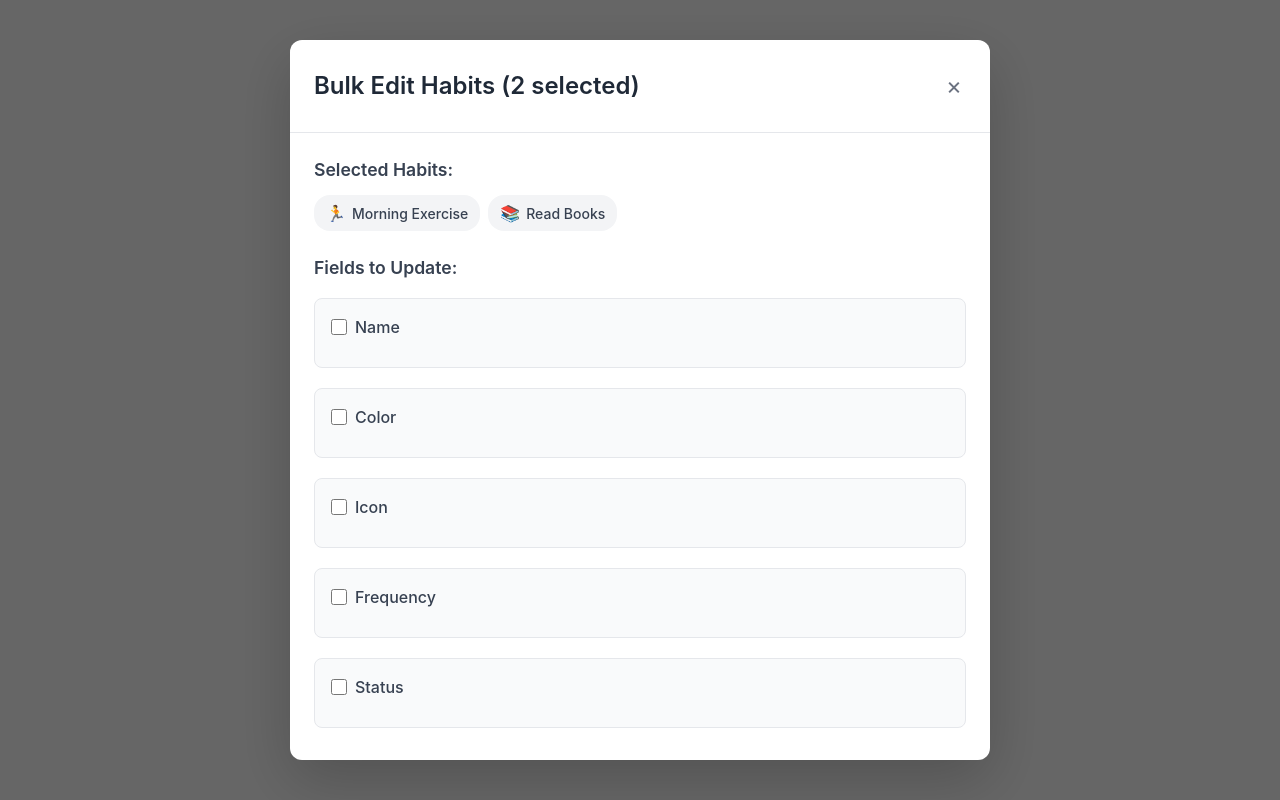
Test: BulkEditModal › shows confirmation dialog before applying changes
This screenshot has width=1280, height=800.
Select name field and enter value
Step 1. Click the checkbox labelled "Name" → (339, 327), box [331, 319, 347, 335]
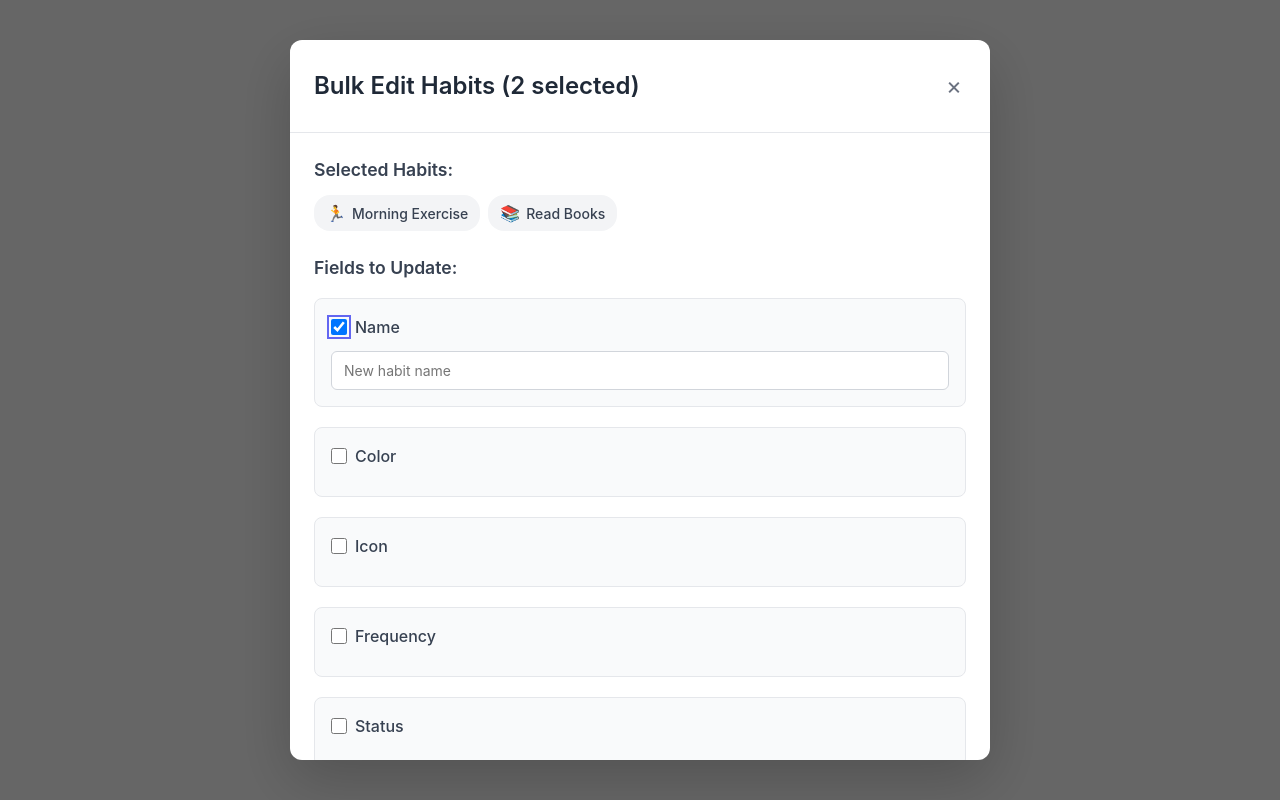
Step 2. Type "Updated Habit" into the field with placeholder "New habit name" → (640, 370), box [331, 351, 949, 390]
(page scrolled)
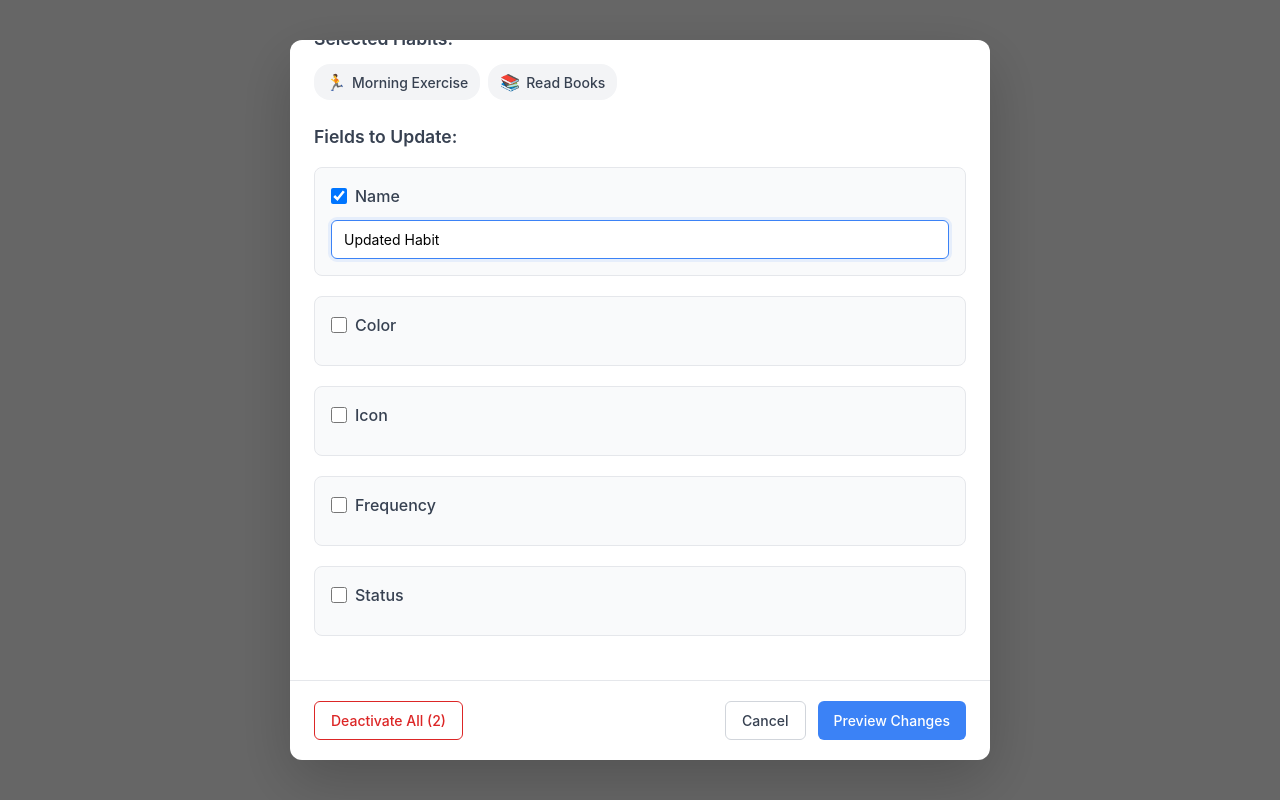
Click preview
Step 3. Click the button "Preview Changes" → (892, 720), box [818, 701, 966, 740]
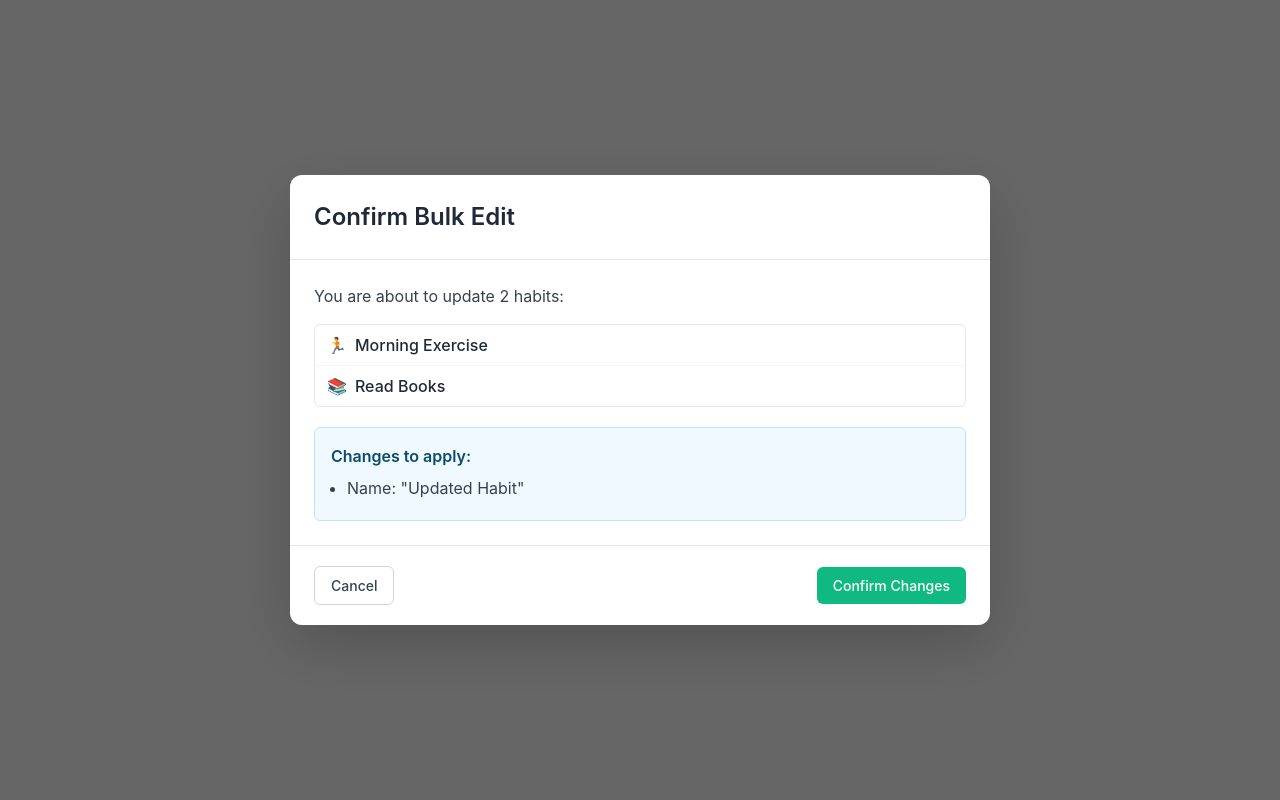
Expected: the heading "Confirm Bulk Edit" is shown, [314, 199, 515, 235]
Expected: the text "You are about to update 2 habits:" is shown, [314, 286, 564, 306]
Expected: the list item "Name: \"Updated Habit\"" is shown, [347, 478, 524, 498]
